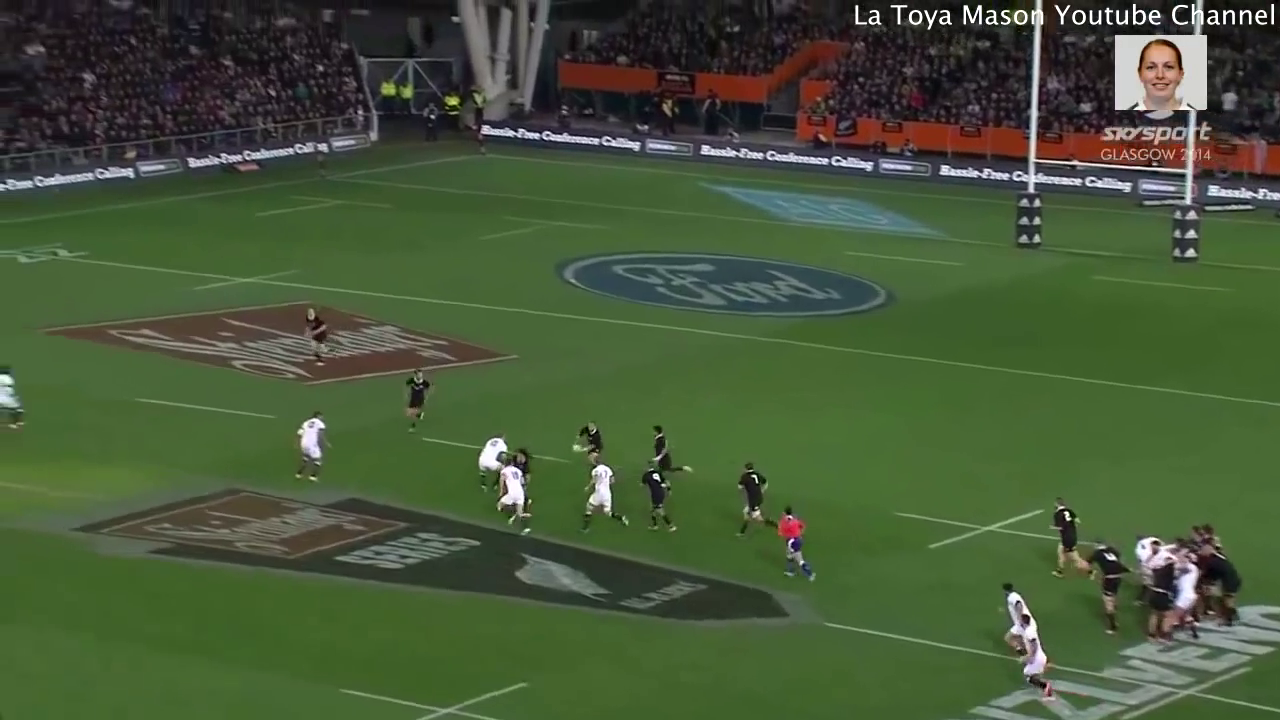ball: (565, 436, 587, 462)
lineout: (884, 497, 1111, 572), (333, 676, 539, 720)
player: (1000, 604, 1069, 704), (713, 452, 783, 544), (1078, 528, 1133, 641), (1042, 491, 1101, 588), (574, 452, 633, 544), (765, 500, 819, 584), (285, 405, 336, 492), (632, 457, 684, 536), (638, 416, 696, 486), (1201, 539, 1244, 629), (1162, 543, 1200, 640), (495, 451, 535, 540), (1141, 538, 1173, 645), (393, 363, 437, 440), (994, 572, 1035, 652), (469, 426, 514, 495), (300, 297, 337, 376), (1, 352, 33, 437), (565, 411, 605, 471), (1187, 514, 1228, 563), (508, 444, 541, 494), (1130, 527, 1165, 568)
post: (1006, 1, 1220, 276)
